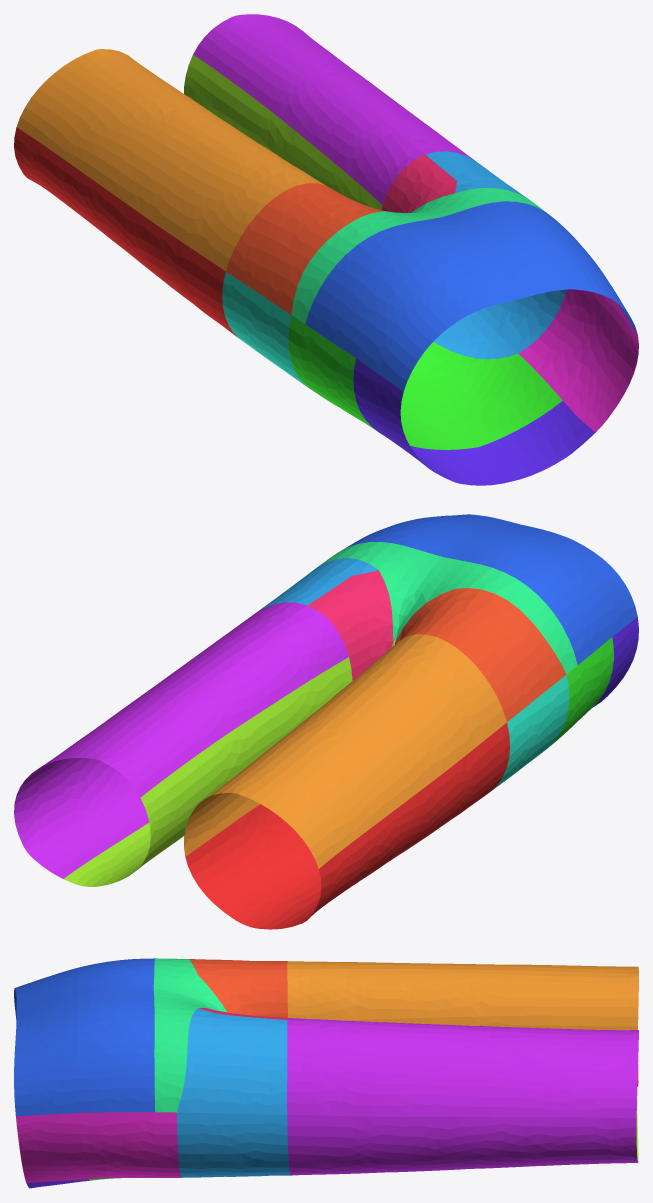
File: longpants_garmentB.obj
The picture shows the model from 3 angles, top to bottom: view 1: azimuth 30°, elevation 25°; view 2: azimuth 150°, elevation 25°; view 3: azimuth 270°, elevation 25°; orthographic projection. The views are drawn at different scales.
Parts seen in each view (by area): view 1: longpants_garmentB; view 2: longpants_garmentB; view 3: longpants_garmentB.
Boxes of the visible parts, x1,y1,x2,y2 form: longpants_garmentB: (14,14,638,485); longpants_garmentB: (14,514,638,929); longpants_garmentB: (14,958,638,1188).
Size of the model in its own units: 438 by 296 by 877.
